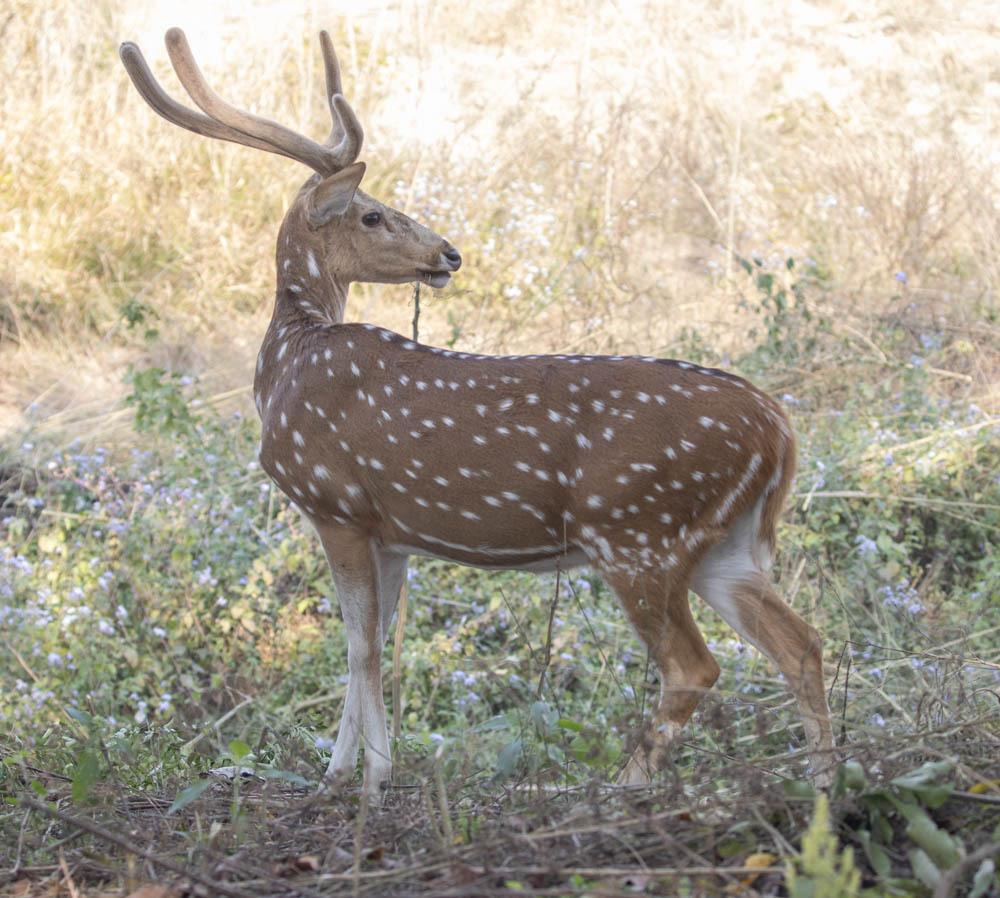Deer: (121, 28, 832, 786)
